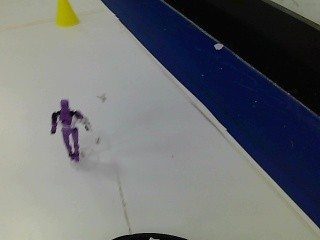cone: (52, 0, 80, 28)
pedestrian: (45, 93, 93, 167)
